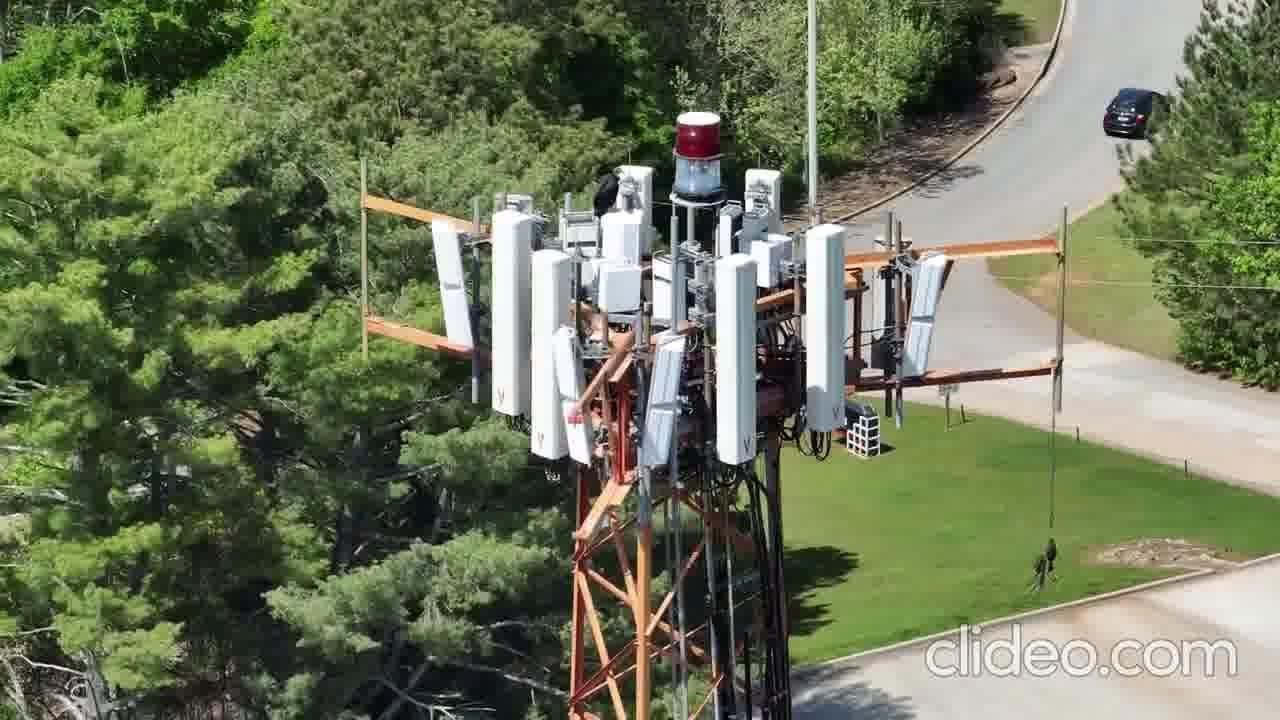antenna: (709, 251, 777, 471), (800, 224, 855, 439), (483, 203, 534, 421), (528, 244, 579, 461), (639, 341, 691, 477), (433, 214, 484, 349), (586, 261, 648, 318)
